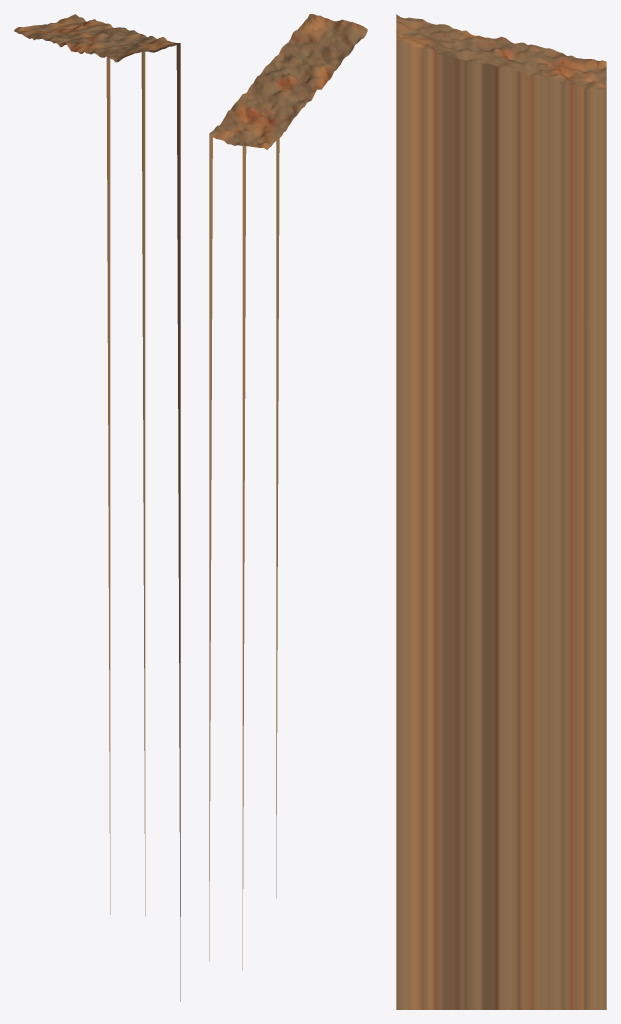
The model's file is terrain-168.glb.
3 renders of one model, left to right at view 1: azimuth 30°, elevation 25°; view 2: azimuth 150°, elevation 25°; view 3: azimuth 270°, elevation 25°, orthographic. The views are drawn at different scales.
Visible parts, largest first — view 1: terrain-168; view 2: terrain-168; view 3: terrain-168.
Boxes of the visible parts, x1,y1,x2,y2 form: terrain-168: (14, 14, 180, 1001); terrain-168: (209, 14, 367, 970); terrain-168: (396, 14, 606, 1009).
Bounding box in the file's own units: 128 × 1951 × 384.
